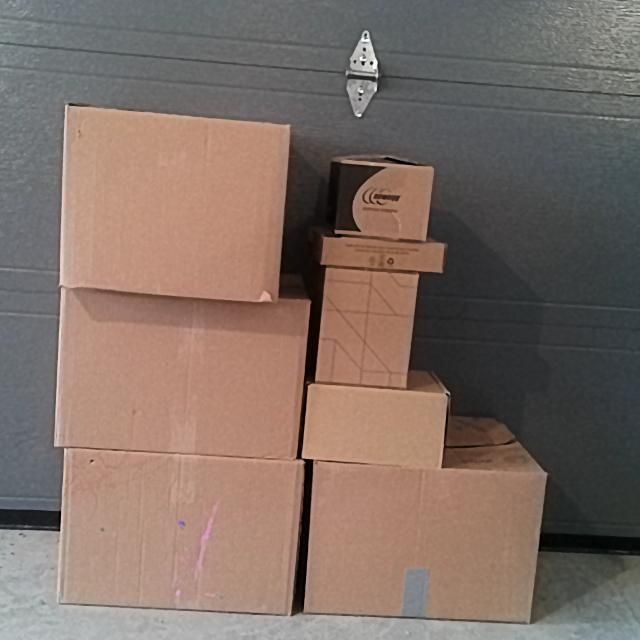box: (62, 117, 288, 296), (55, 294, 301, 455), (60, 459, 299, 609), (308, 468, 536, 616), (306, 388, 444, 464), (322, 267, 408, 387), (332, 164, 429, 235), (321, 240, 445, 273)
